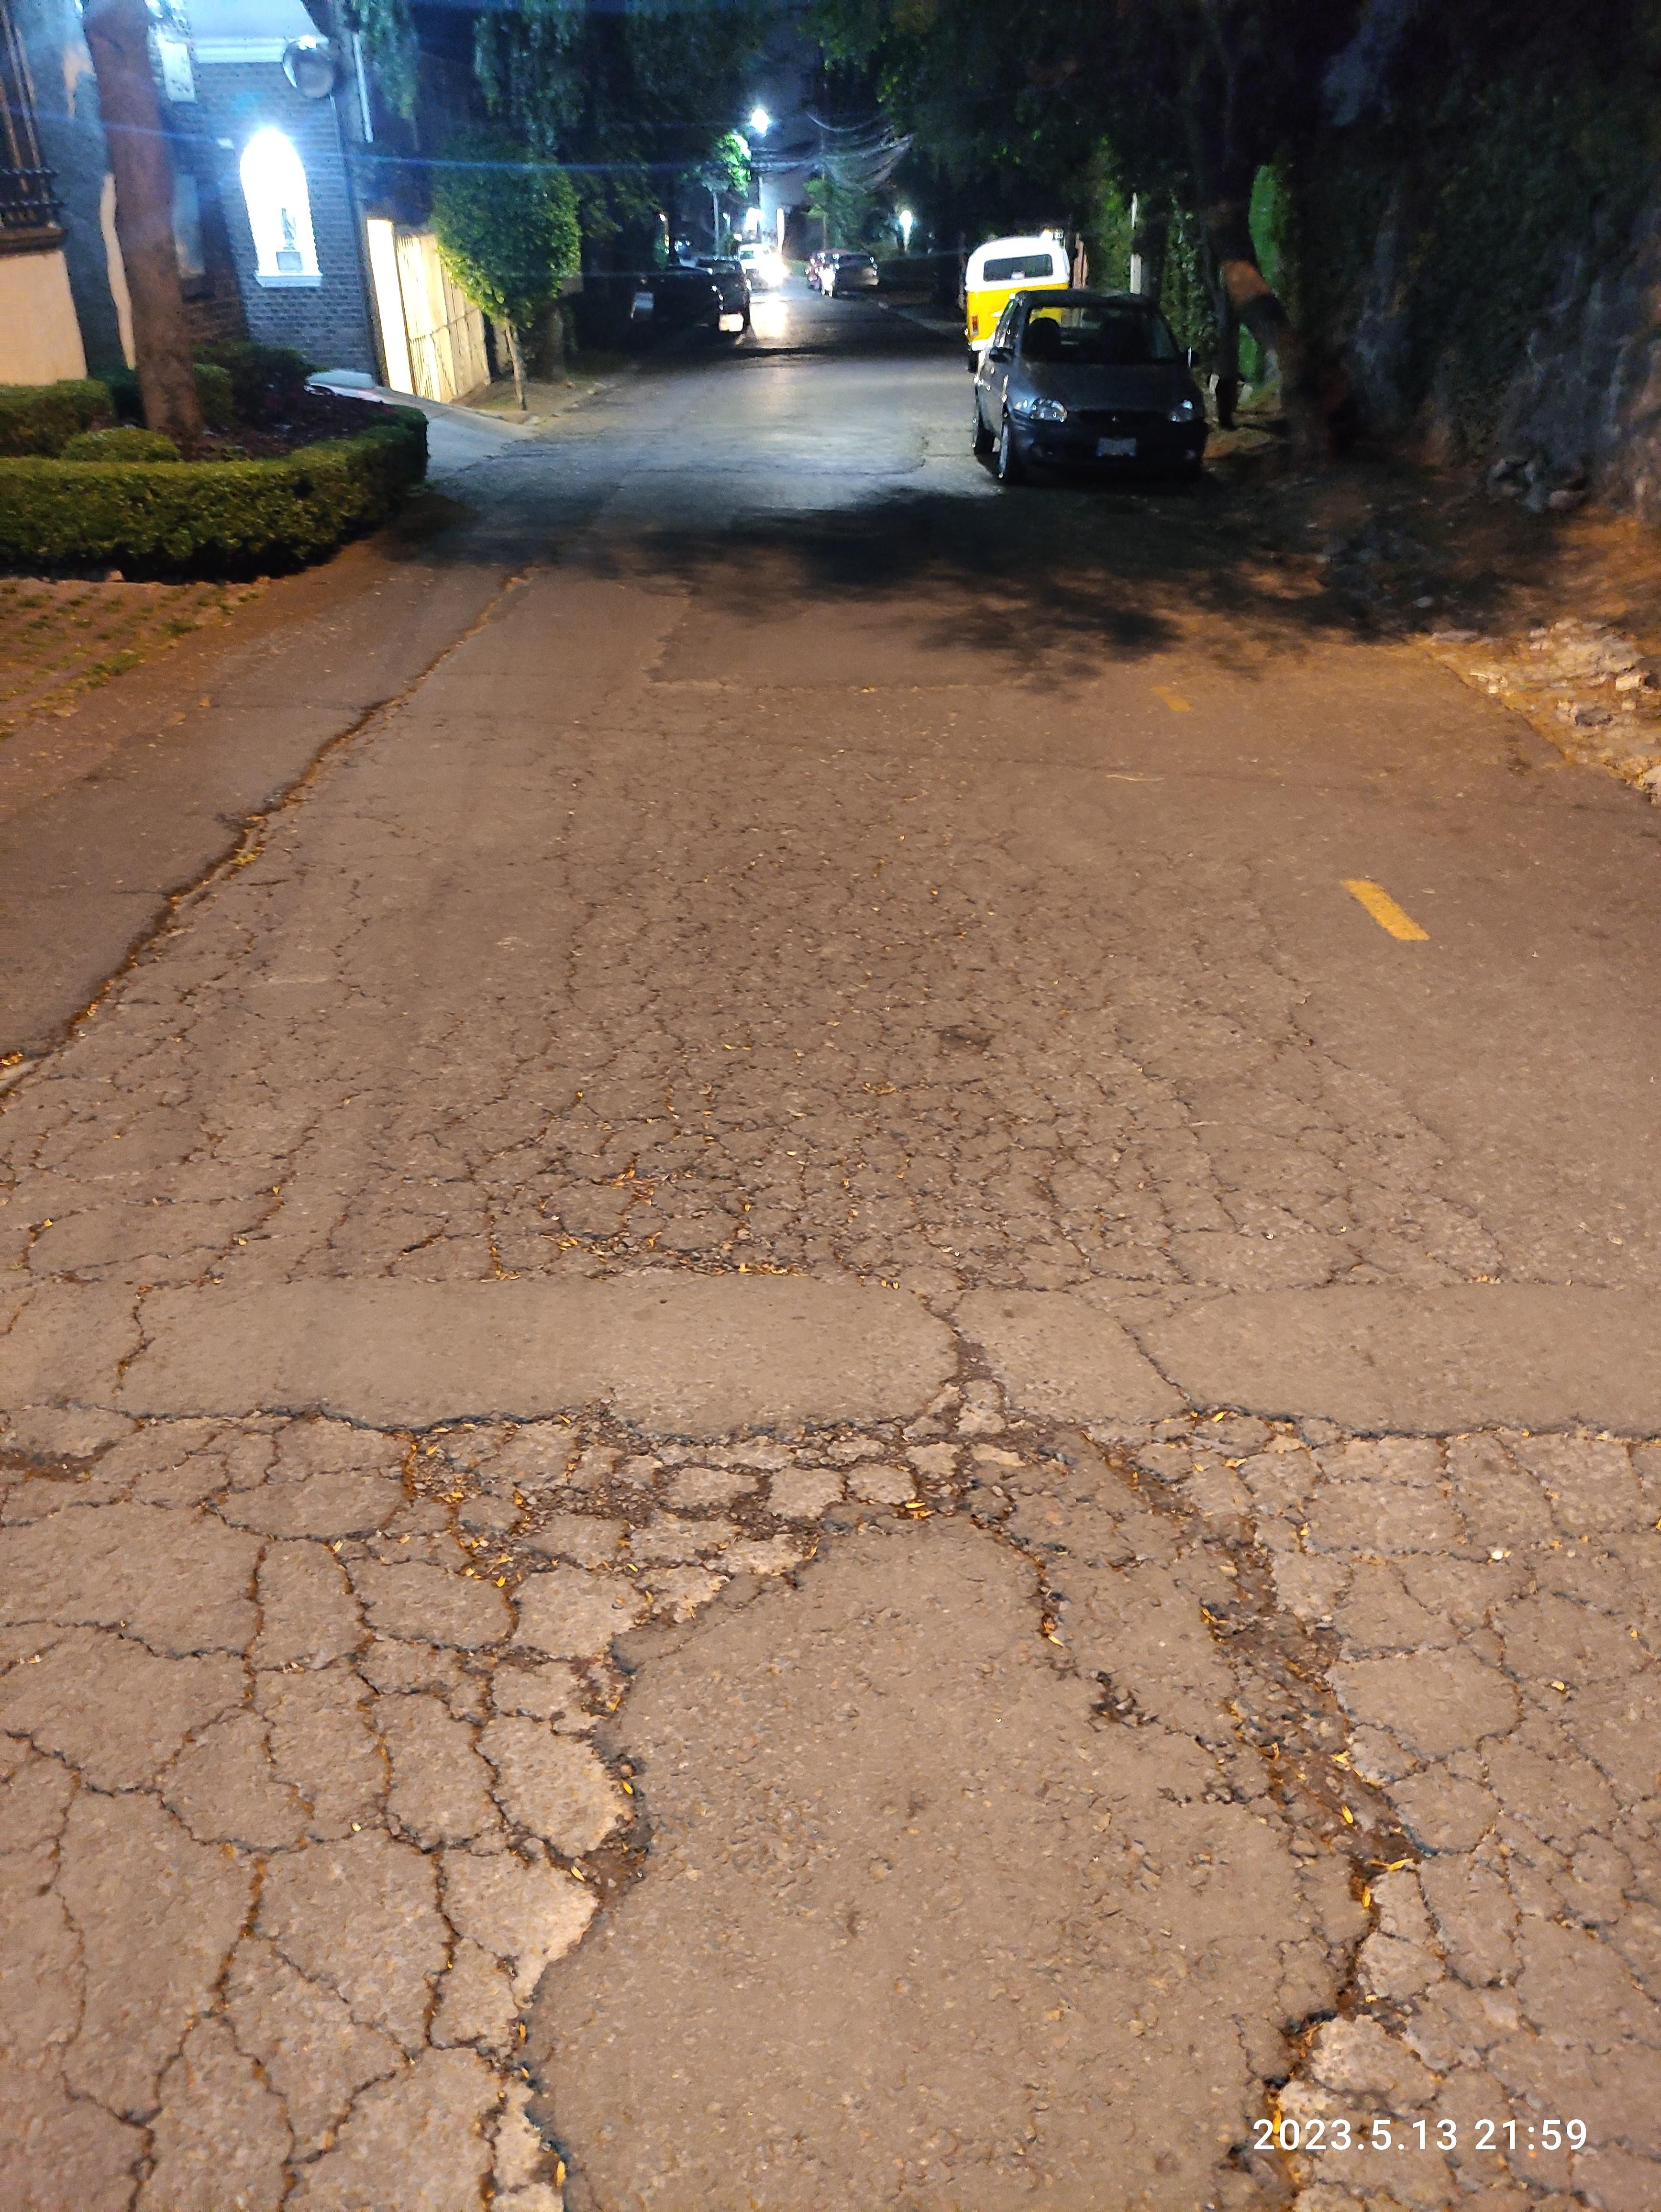alligator-crack: (19, 1387, 1661, 2212), (408, 701, 1455, 1314), (0, 930, 408, 1308)
crack: (0, 675, 408, 1068)
